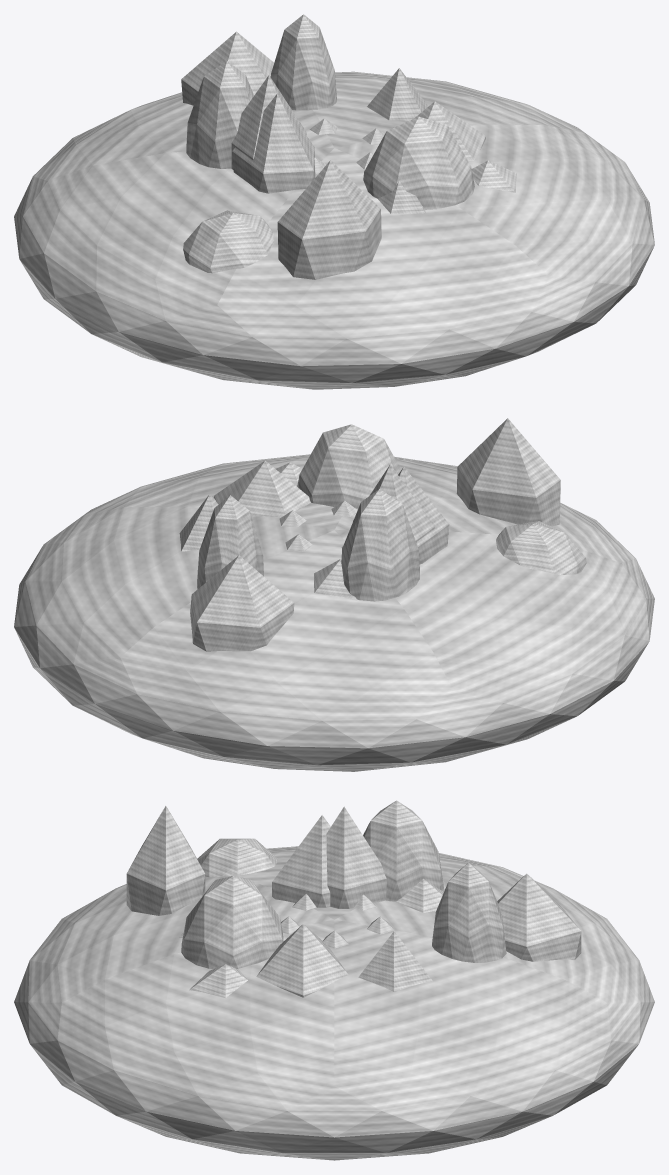
File: raw_quartz_node_variant_d.glb
The picture shows the model from 3 angles, top to bottom: view 1: azimuth 30°, elevation 25°; view 2: azimuth 150°, elevation 25°; view 3: azimuth 270°, elevation 25°; orthographic projection.
Parts seen in each view (by area): view 1: Resource node bedrock.003, Exposed ore formation.044, Exposed ore formation.046, Exposed ore formation.042, Exposed ore formation.040, Exposed ore formation.037, Exposed ore formation.043, Exposed ore formation.038, Exposed ore formation.035, Exposed ore formation.041, Exposed ore formation, Exposed ore formation.047 (+1 smaller); view 2: Resource node bedrock.003, Exposed ore formation.044, Exposed ore formation.038, Exposed ore formation.040, Exposed ore formation.046, Exposed ore formation.037, Exposed ore formation.043, Exposed ore formation, Exposed ore formation.042, Exposed ore formation.041, Exposed ore formation.035, Exposed ore formation.039; view 3: Resource node bedrock.003, Exposed ore formation.046, Exposed ore formation.044, Exposed ore formation.037, Exposed ore formation.038, Exposed ore formation.040, Exposed ore formation.041, Exposed ore formation, Exposed ore formation.042, Exposed ore formation.043, Exposed ore formation.035, Exposed ore formation.047 (+1 smaller).
Part boxes in pixels (x1,y1,x2,y2): Resource node bedrock.003: (14,71,654,389); Exposed ore formation.044: (277,160,381,279); Exposed ore formation.046: (363,116,474,209); Exposed ore formation.042: (232,93,315,193); Exposed ore formation.040: (186,61,253,168); Exposed ore formation.037: (270,14,336,110); Exposed ore formation.043: (183,210,274,273); Exposed ore formation.038: (181,31,273,105); Exposed ore formation.035: (367,68,428,120); Exposed ore formation.041: (231,75,306,169); Exposed ore formation: (414,101,485,160); Exposed ore formation.047: (471,160,516,192); Resource node bedrock.003: (14,454,654,771); Exposed ore formation.044: (456,418,560,526); Exposed ore formation.038: (190,555,294,651); Exposed ore formation.040: (341,489,419,601); Exposed ore formation.046: (297,424,400,508); Exposed ore formation.037: (197,495,263,589); Exposed ore formation.043: (496,521,586,574); Exposed ore formation: (214,460,310,517); Exposed ore formation.042: (398,467,449,564); Exposed ore formation.041: (353,464,434,543); Exposed ore formation.035: (179,494,218,551); Exposed ore formation.039: (314,559,356,600); Resource node bedrock.003: (14,846,654,1160); Exposed ore formation.046: (181,876,283,968); Exposed ore formation.044: (126,806,205,915); Exposed ore formation.037: (432,862,506,962); Exposed ore formation.038: (497,873,581,961); Exposed ore formation.040: (363,800,444,901); Exposed ore formation.041: (326,806,386,908); Exposed ore formation: (256,924,348,997); Exposed ore formation.042: (272,815,330,907); Exposed ore formation.043: (197,838,278,877); Exposed ore formation.035: (358,931,432,991); Exposed ore formation.047: (189,964,247,997).
Size of what is drawn, in the model's own units: 6 by 2.57 by 6.
2 materials, 2 textured.
